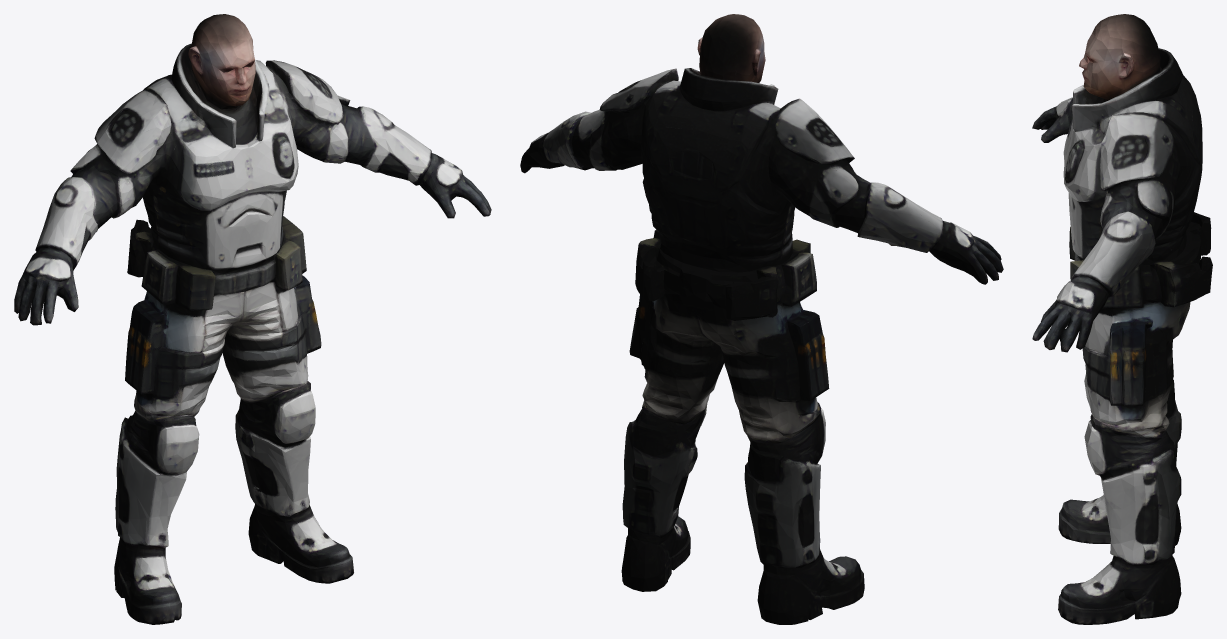
File: Villain_Warden.glb
3 views of the same model, side by side, from view 1: azimuth 30°, elevation 25°; view 2: azimuth 150°, elevation 25°; view 3: azimuth 270°, elevation 25° (orthographic). The views are drawn at different scales.
Parts seen in each view (by area): view 1: world; view 2: world; view 3: world.
Part boxes in pixels (x1,y1,x2,y2): world: [14, 14, 491, 624]; world: [520, 14, 1003, 624]; world: [1032, 14, 1212, 624].
Size of the model in its own units: 0.8696 by 1 by 0.2949.
1 material, 1 textured.
